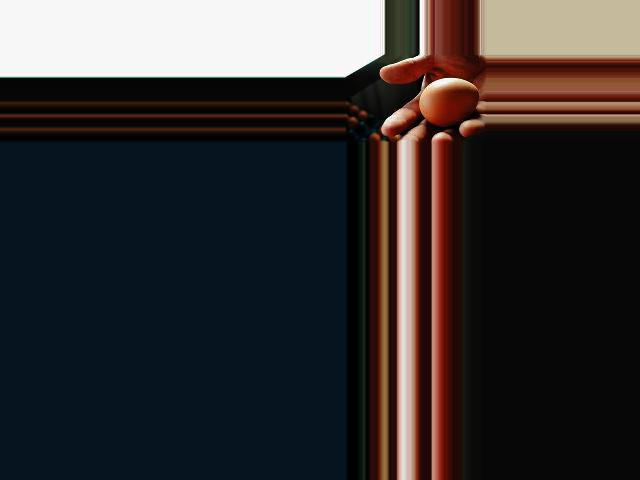egg: (419, 78, 480, 128)
